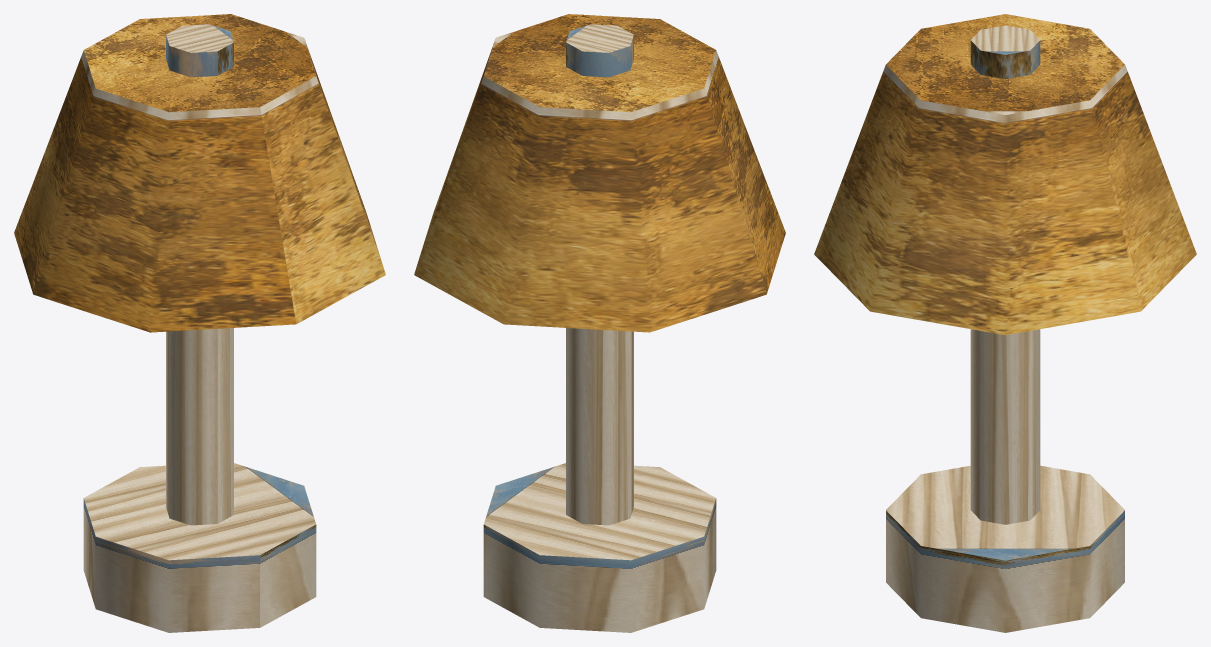
File: table-lamp.gltf
3 views of the same model, side by side, from view 1: azimuth 30°, elevation 25°; view 2: azimuth 150°, elevation 25°; view 3: azimuth 270°, elevation 25° (orthographic).
Visible parts, largest first — view 1: kit:0:furniture:drapery:, kit:0:furniture:gold:; view 2: kit:0:furniture:drapery:, kit:0:furniture:gold:; view 3: kit:0:furniture:drapery:, kit:0:furniture:gold:.
Boxes of the visible parts, bbox=[...] form: kit:0:furniture:drapery:: bbox=[14, 14, 385, 332]; kit:0:furniture:gold:: bbox=[83, 24, 316, 632]; kit:0:furniture:drapery:: bbox=[414, 14, 785, 332]; kit:0:furniture:gold:: bbox=[483, 24, 716, 632]; kit:0:furniture:drapery:: bbox=[814, 14, 1196, 335]; kit:0:furniture:gold:: bbox=[886, 25, 1124, 632].
Bounding box in the file's own units: 0.384 × 0.6 × 0.384.
Materials: 2 (2 with a texture image).
